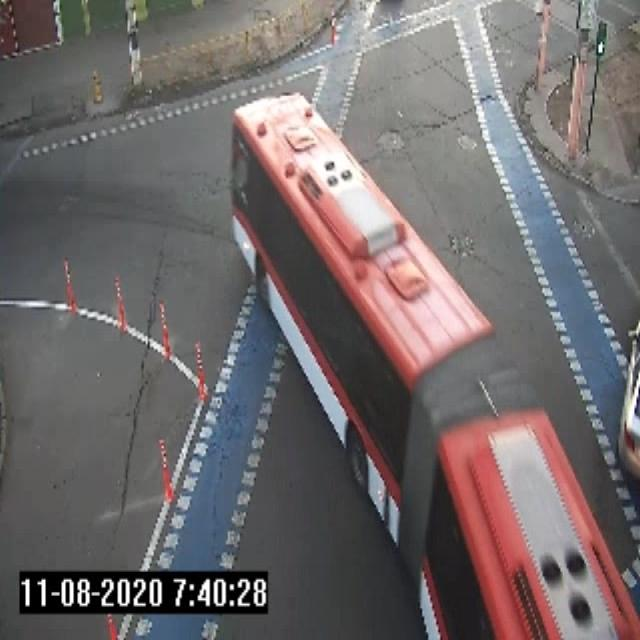AB: (231, 85, 640, 635)
